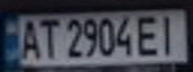0: (97, 15, 118, 57)
2: (63, 15, 84, 60)
4: (115, 14, 139, 57)
9: (78, 15, 100, 58)
A: (15, 17, 42, 60)
E: (133, 12, 163, 57)
I: (154, 11, 184, 56)
T: (33, 16, 60, 60)
